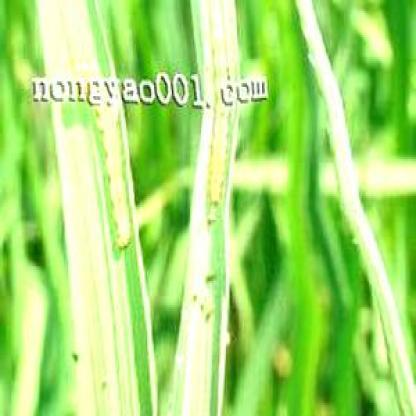leaf-folder: (96, 117, 140, 260), (203, 119, 234, 210)
